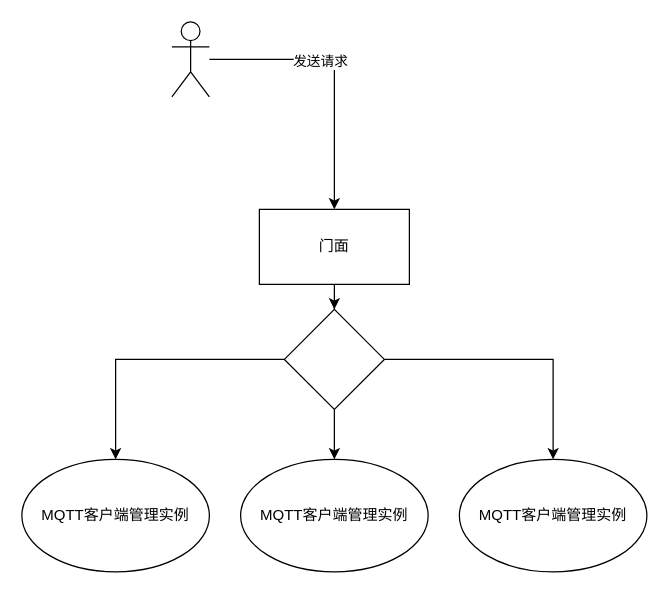
This 669x594 diagram has some shape labels left out. The centre of each missing label's shape, as x and y in pixels:
"用户" belongs at point 190,59.
"选择机制" belongs at point 333,358.
